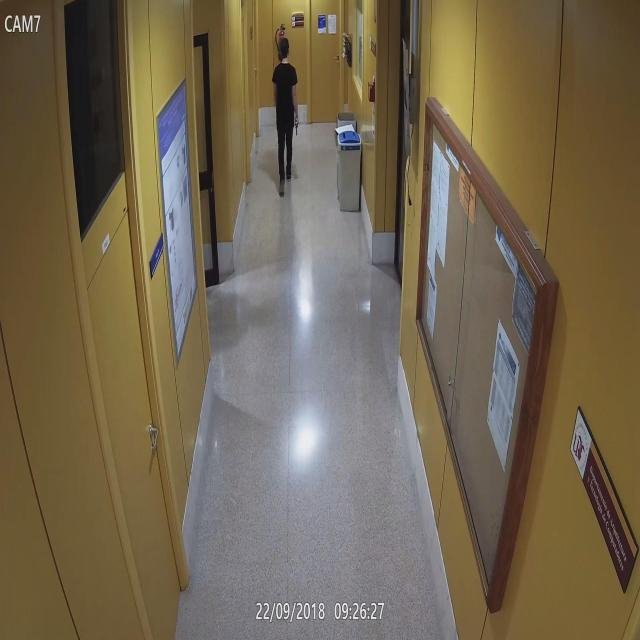pistol: (292, 112, 300, 144)
